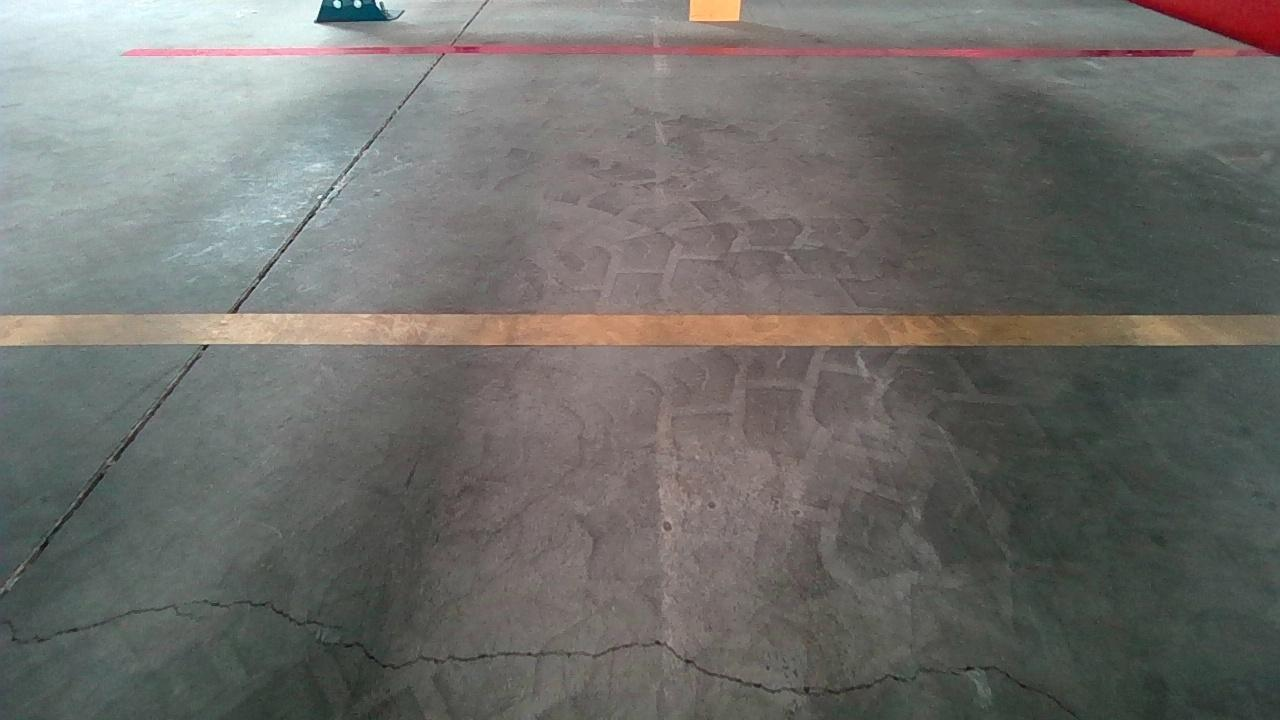red_line: (138, 35, 1238, 65)
yellow_line: (27, 302, 1265, 356)
